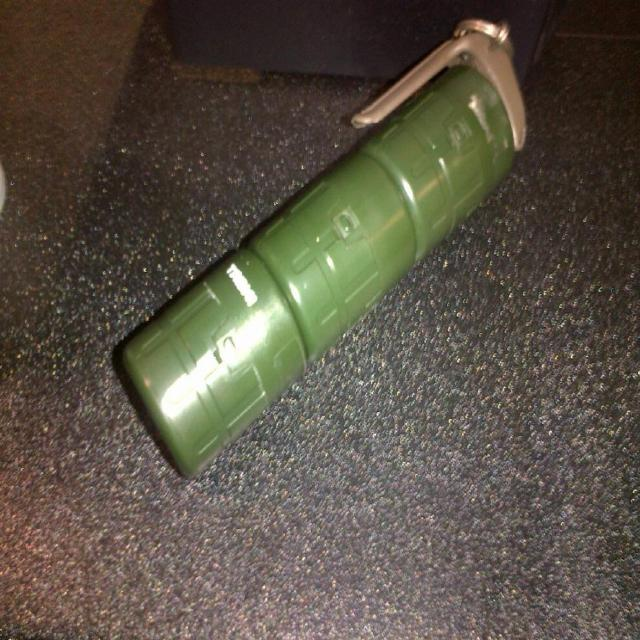grenade: (118, 14, 529, 485)
